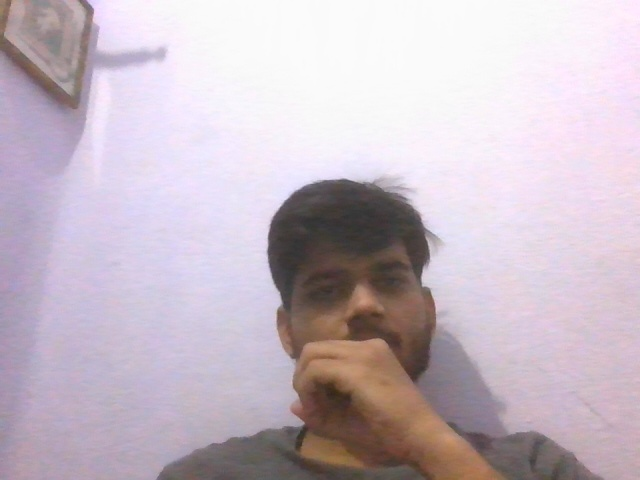no: (275, 336, 458, 460)
